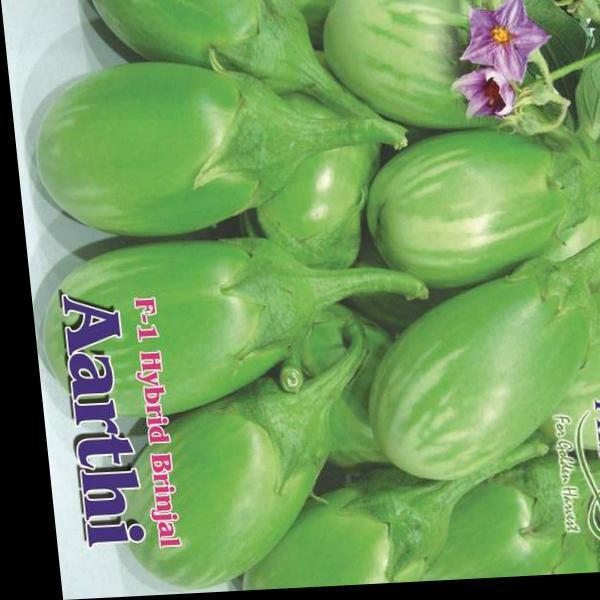eggplant: (140, 169, 592, 574)
